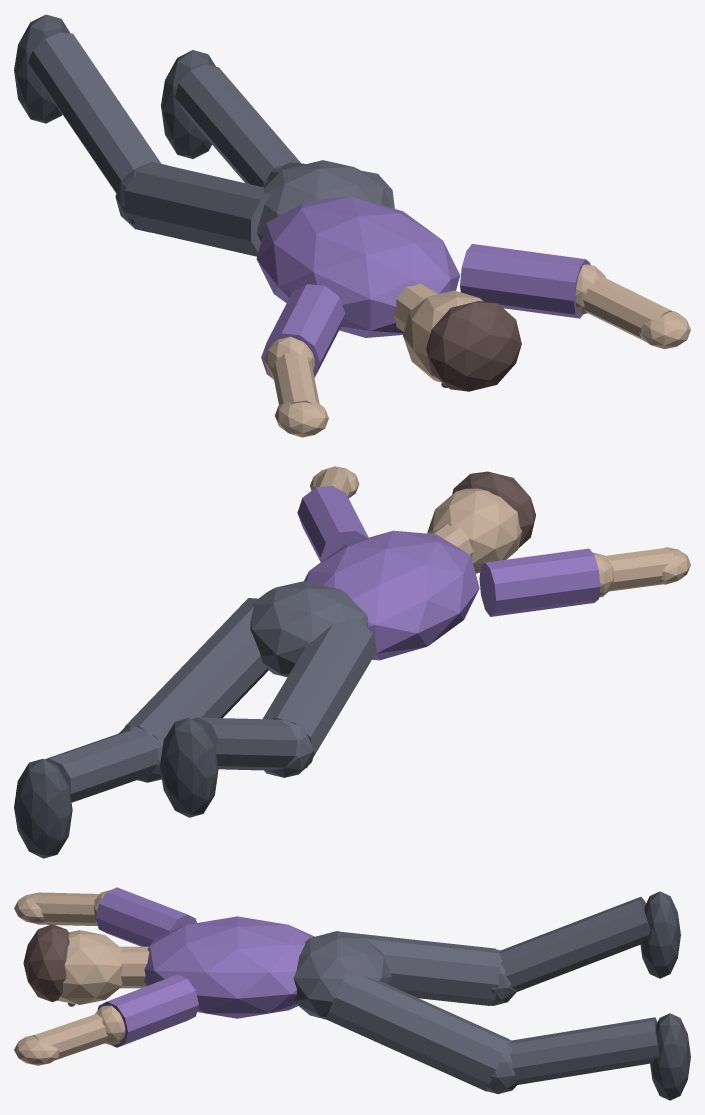
3 views of the same model, one above another, from view 1: azimuth 30°, elevation 25°; view 2: azimuth 150°, elevation 25°; view 3: azimuth 270°, elevation 25° (orthographic). The views are drawn at different scales.
Parts seen in each view (by area): view 1: world; view 2: world; view 3: world.
Part boxes in pixels (x1,y1,x2,y2): world: [14, 14, 690, 437]; world: [14, 466, 690, 858]; world: [14, 887, 690, 1100].
Bounding box in the file's own units: 1.17 × 0.5125 × 2.1.
